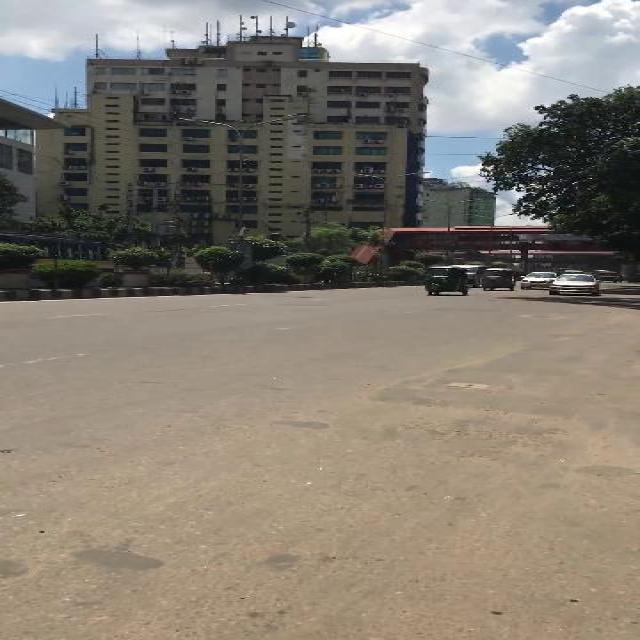car: (547, 272, 601, 295), (521, 271, 556, 289)
motorcycle: (423, 264, 469, 295), (480, 267, 516, 290)
